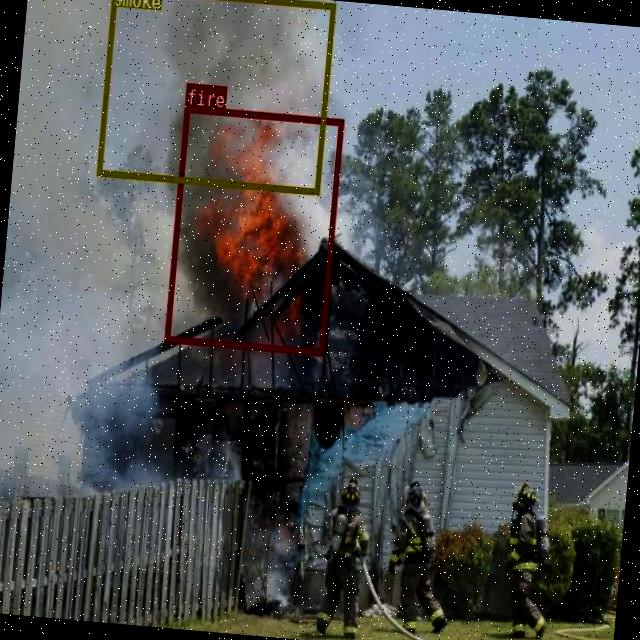fire: (163, 104, 342, 355)
smoke: (95, 0, 335, 193)
